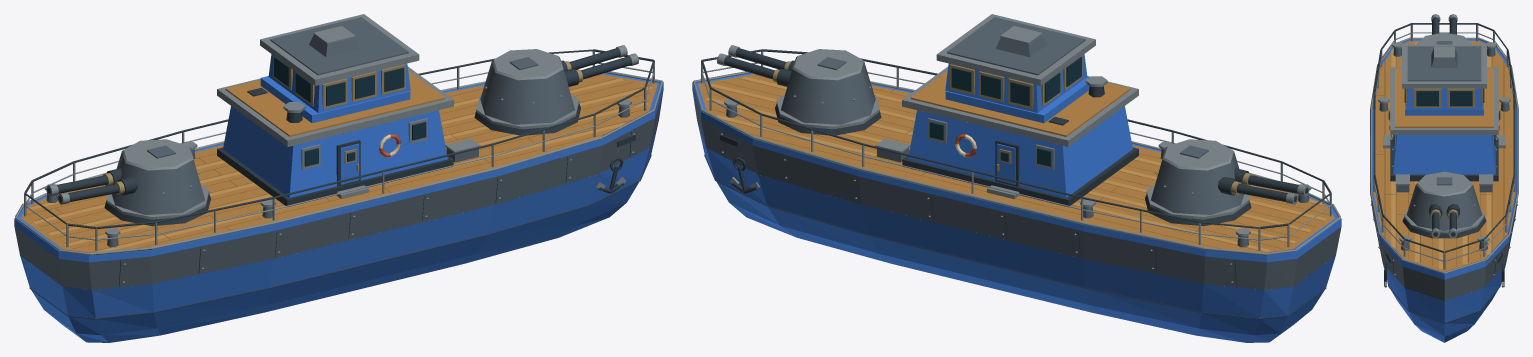
3 renders of one model, left to right at view 1: azimuth 30°, elevation 25°; view 2: azimuth 150°, elevation 25°; view 3: azimuth 270°, elevation 25°, orthographic. The views are drawn at different scales.
Visible parts, largest first — view 1: 海军护卫舰; view 2: 海军护卫舰; view 3: 海军护卫舰.
Part boxes in pixels (left/top/right/bottom): 海军护卫舰: left=14, top=14, right=663, bottom=342; 海军护卫舰: left=692, top=14, right=1341, bottom=342; 海军护卫舰: left=1370, top=14, right=1518, bottom=342.
Bounding box in the file's own units: 1.5 × 0.5385 × 0.4004.
